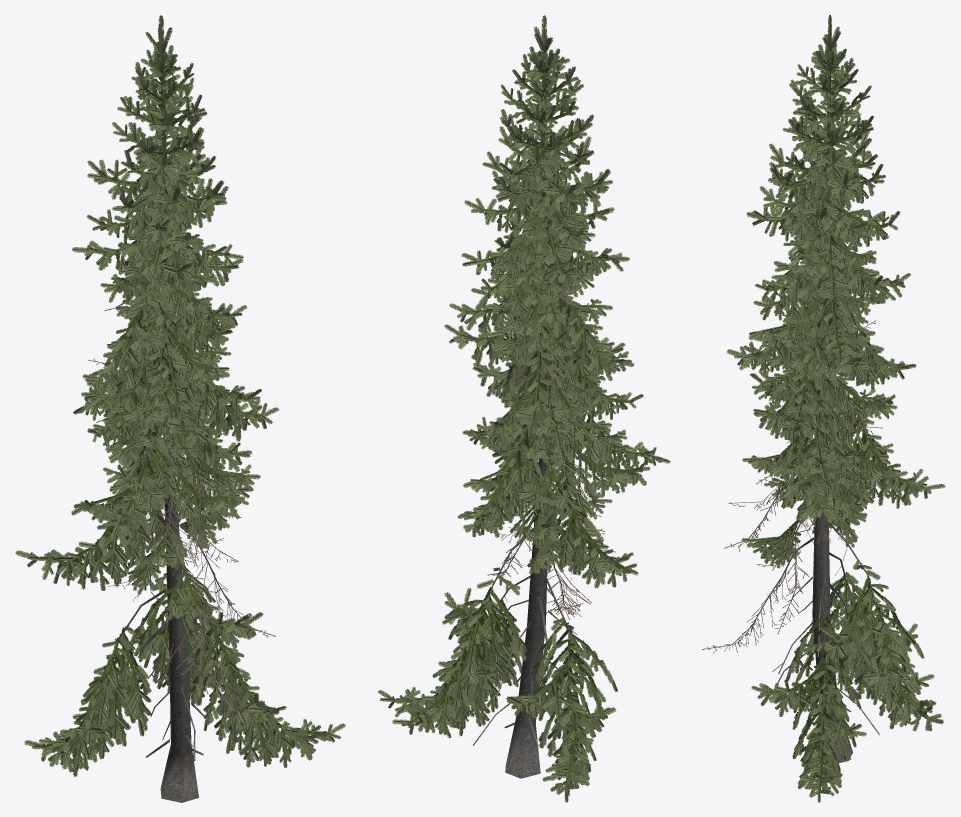
The model's file is Picea mariana HD_Arctic mat 100_LOD4.fbx.
3 renders of one model, left to right at view 1: azimuth 30°, elevation 25°; view 2: azimuth 150°, elevation 25°; view 3: azimuth 270°, elevation 25°, orthographic. The views are drawn at different scales.
Visible parts, largest first — view 1: Picea_mariana_HD; view 2: Picea_mariana_HD; view 3: Picea_mariana_HD.
Boxes of the visible parts, x1,y1,x2,y2 form: Picea_mariana_HD: (15,15,345,802); Picea_mariana_HD: (377,15,670,802); Picea_mariana_HD: (702,15,945,802).
Bounding box in the file's own units: 1.99 × 4.99 × 1.52.
Materials: 9 (8 with a texture image).
